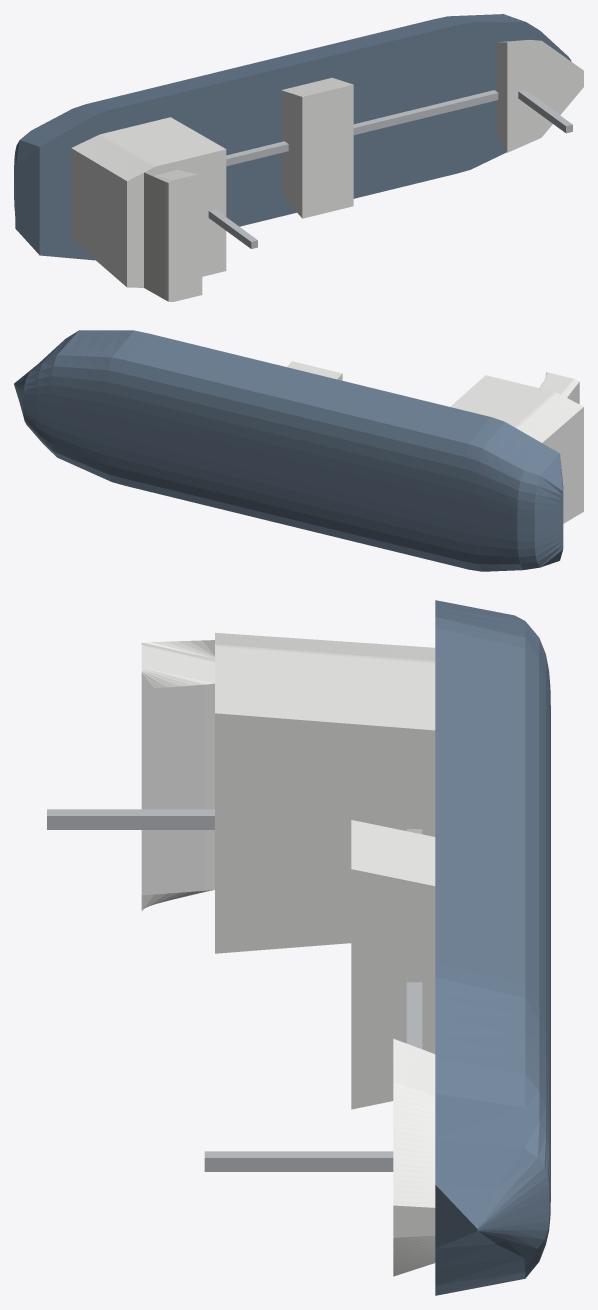
File: tanker-loft.glb
3 renders of one model, top to bottom at view 1: azimuth 30°, elevation 25°; view 2: azimuth 150°, elevation 25°; view 3: azimuth 270°, elevation 25°, orthographic. The views are drawn at different scales.
Visible parts, largest first — view 1: tanker; view 2: tanker; view 3: tanker.
Boxes of the visible parts, left/top/right/bottom form: tanker: left=14, top=14, right=583, bottom=301; tanker: left=14, top=330, right=583, bottom=571; tanker: left=47, top=600, right=550, bottom=1295.
Bounding box in the file's own units: 1.96 × 0.5 × 0.7784.
